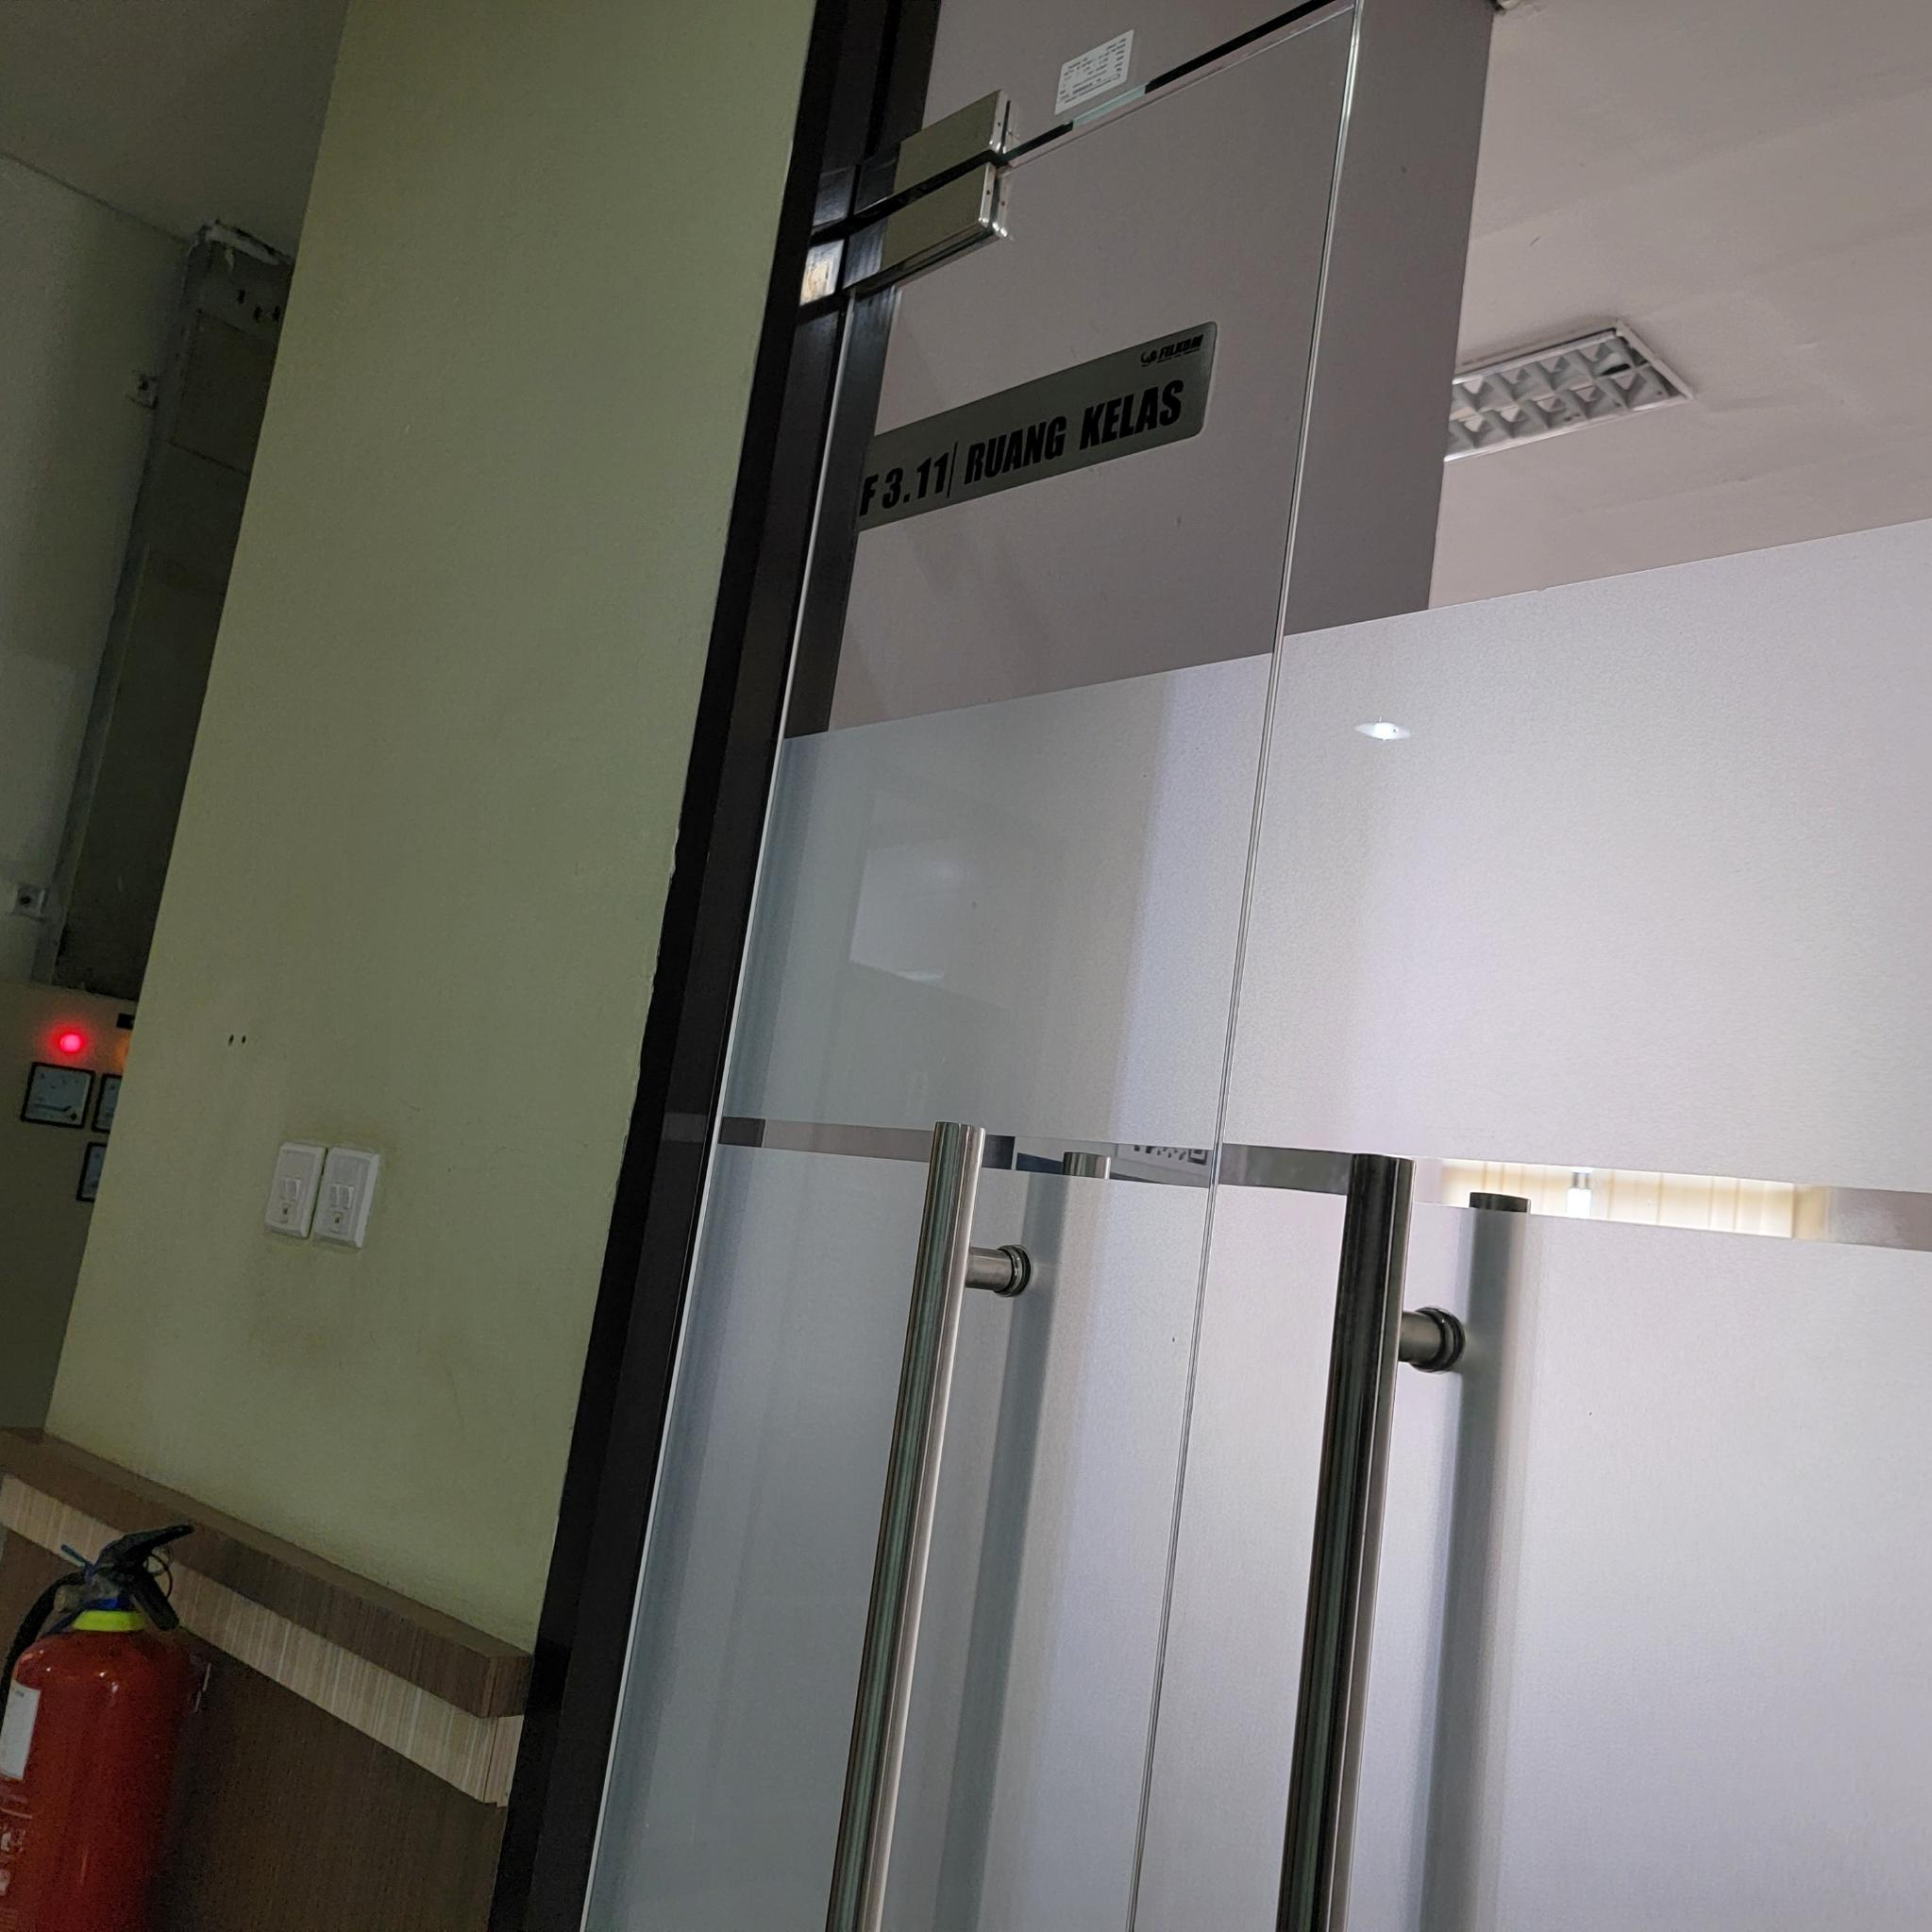plate: (855, 320, 1219, 533)
